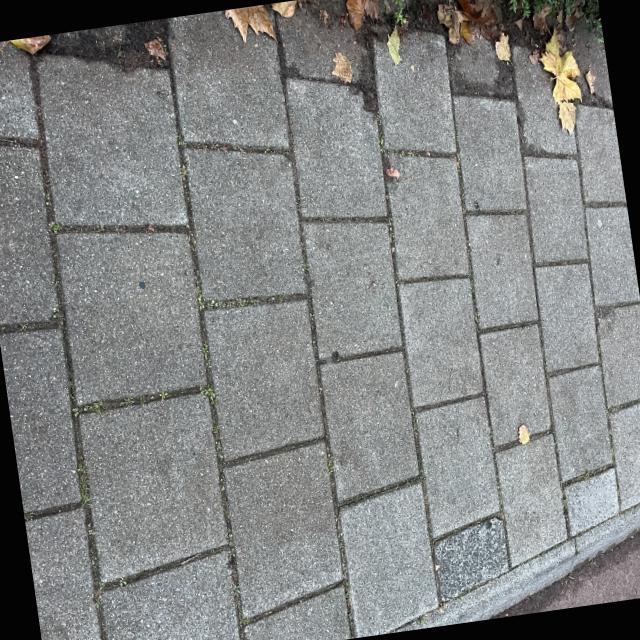leaves: (173, 44, 253, 108), (204, 344, 237, 382), (182, 283, 214, 309), (474, 144, 494, 164)
pavement: (230, 0, 578, 309), (425, 283, 540, 549)
weedling: (515, 398, 605, 419)
